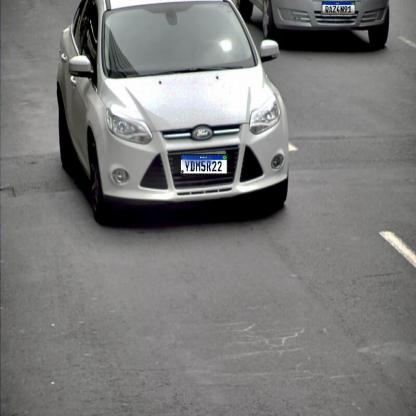PlacaM: (180, 154, 228, 175), (322, 2, 355, 14)
